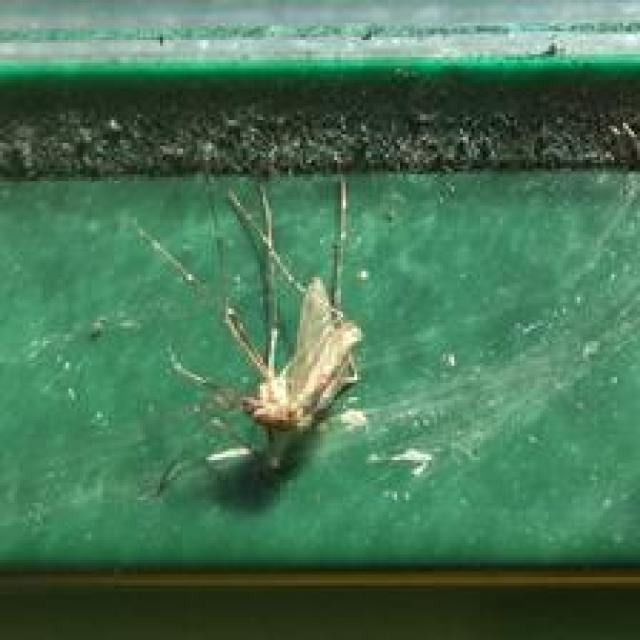Culex: (139, 170, 370, 510)
